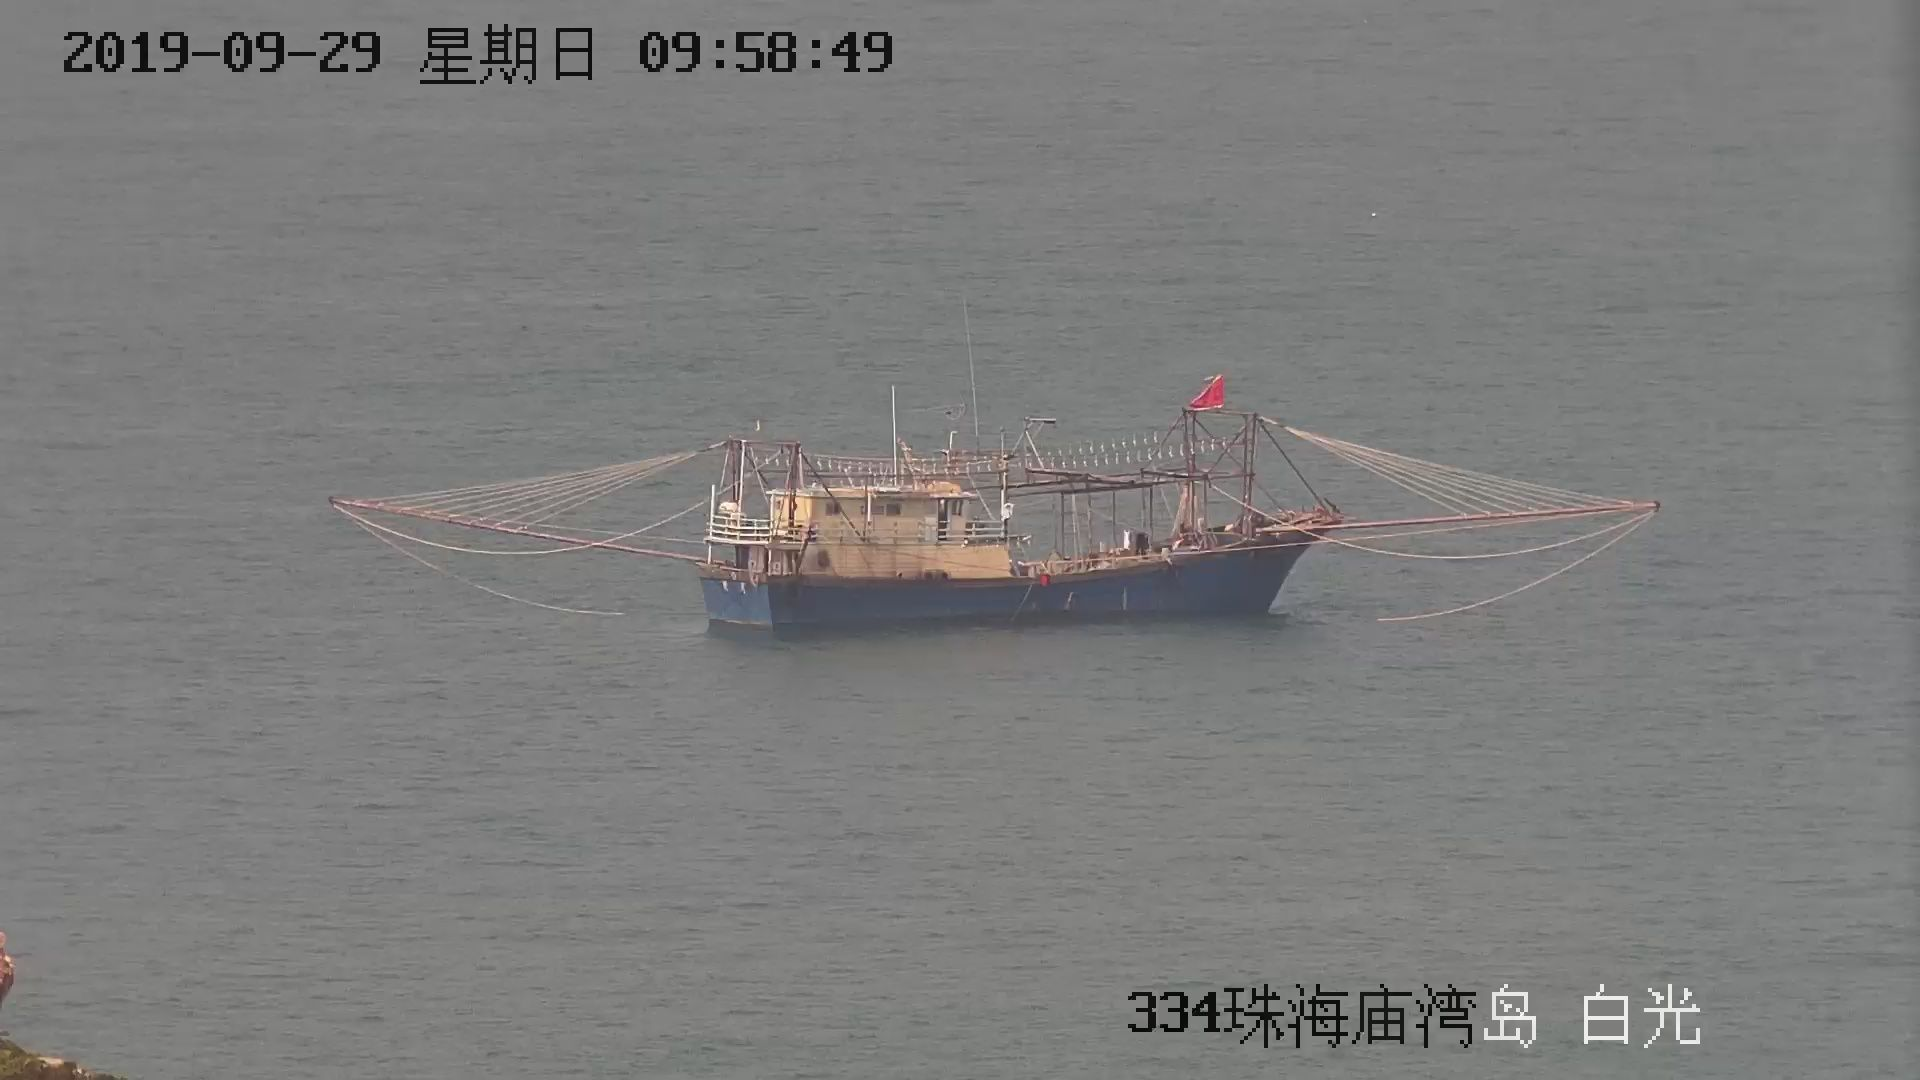ship: (326, 357, 1665, 653)
